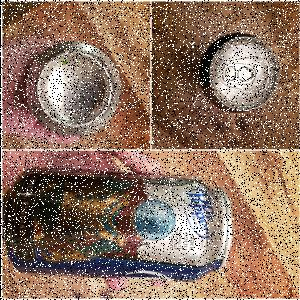Can: (3, 168, 233, 284), (25, 42, 122, 139), (199, 32, 280, 116)
